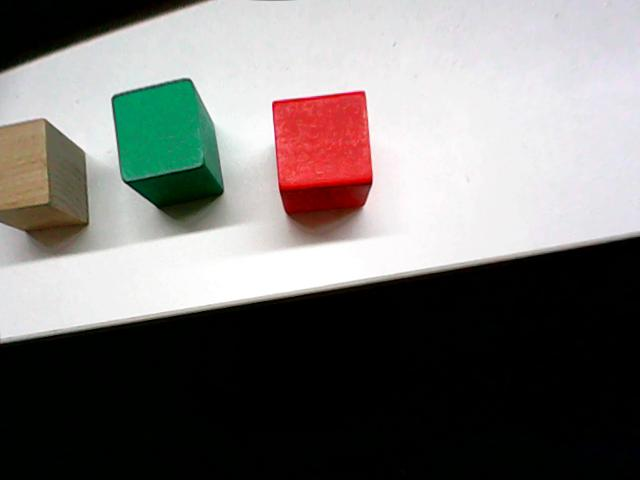green_box: (108, 74, 226, 212)
raw_box: (2, 116, 93, 238)
red_box: (268, 86, 377, 217)
